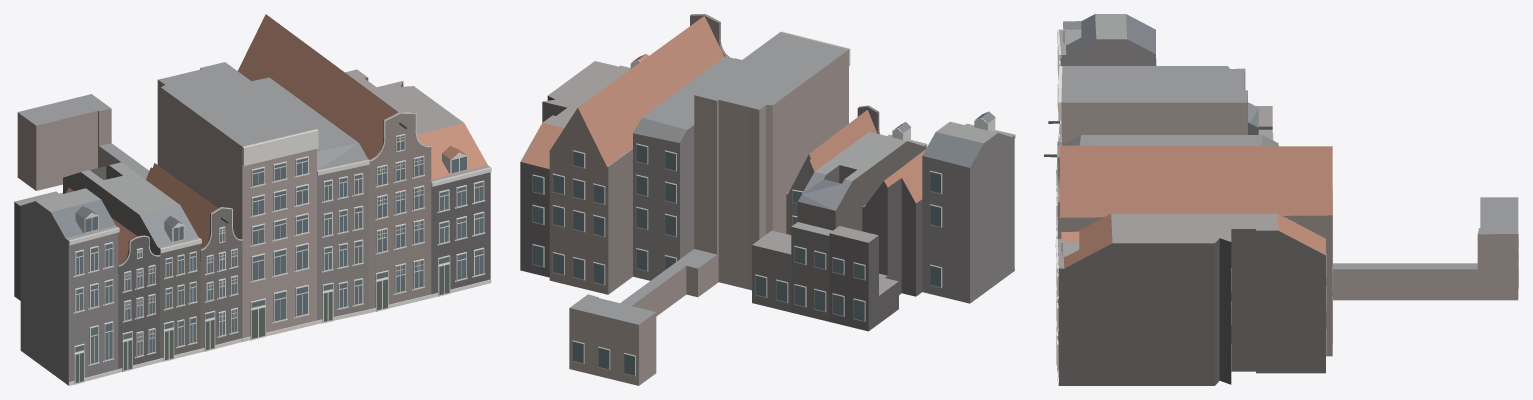
The model's file is chunk-face-bloemgracht-1-51-h1.glb.
3 renders of one model, left to right at view 1: azimuth 30°, elevation 25°; view 2: azimuth 150°, elevation 25°; view 3: azimuth 270°, elevation 25°, orthographic. The views are drawn at different scales.
Parts seen in each view (by area): view 1: face-bloemgracht-1-51-h1; view 2: face-bloemgracht-1-51-h1; view 3: face-bloemgracht-1-51-h1.
Part boxes in pixels (box(x1,y1,x2,y2)): face-bloemgracht-1-51-h1: box(14, 14, 491, 385); face-bloemgracht-1-51-h1: box(520, 14, 1015, 385); face-bloemgracht-1-51-h1: box(1044, 14, 1518, 385).
Bounding box in the file's own units: 38.99 × 17.24 × 37.42.
